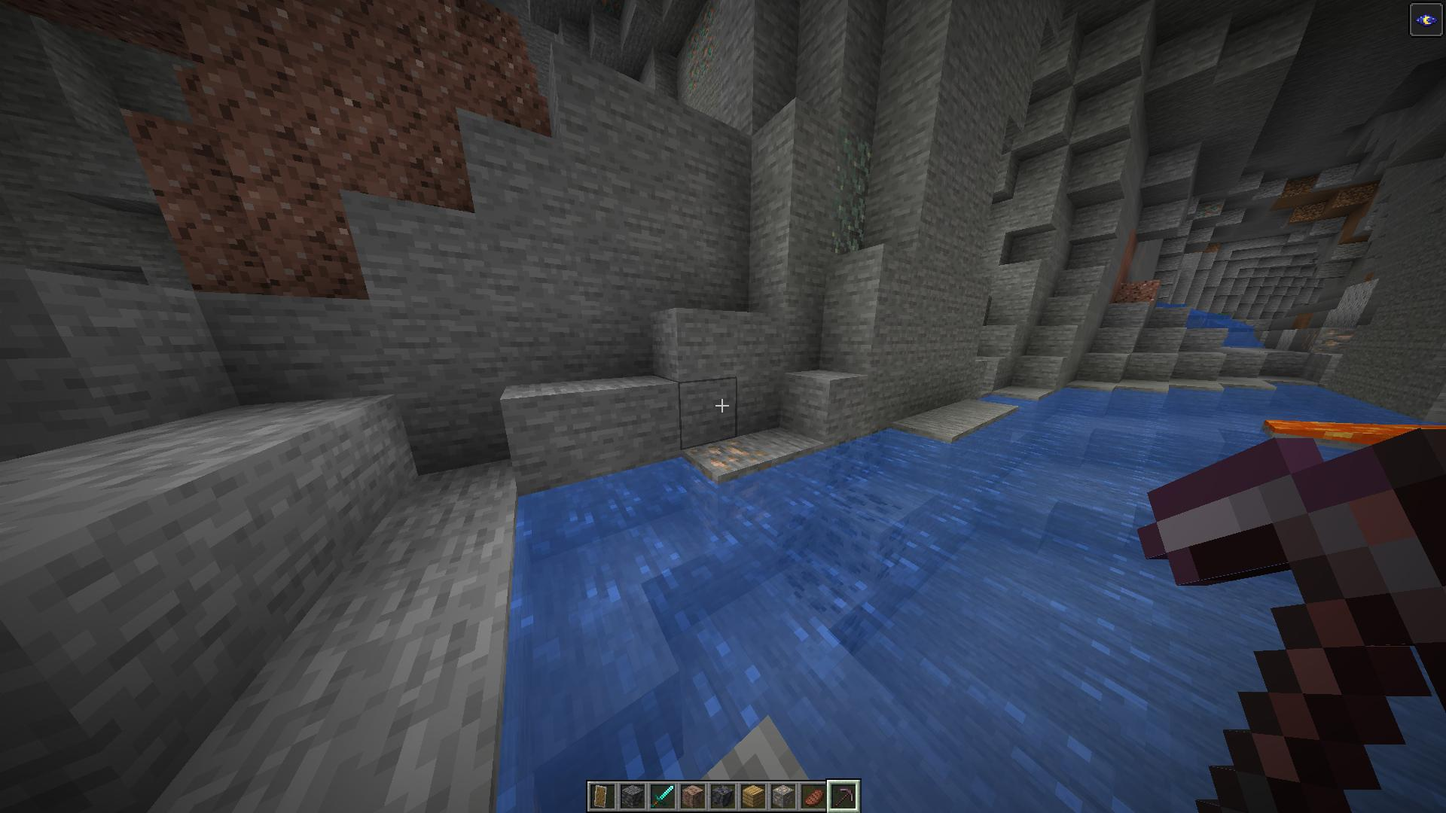iron ore: (691, 433, 760, 475), (1302, 328, 1352, 353)
